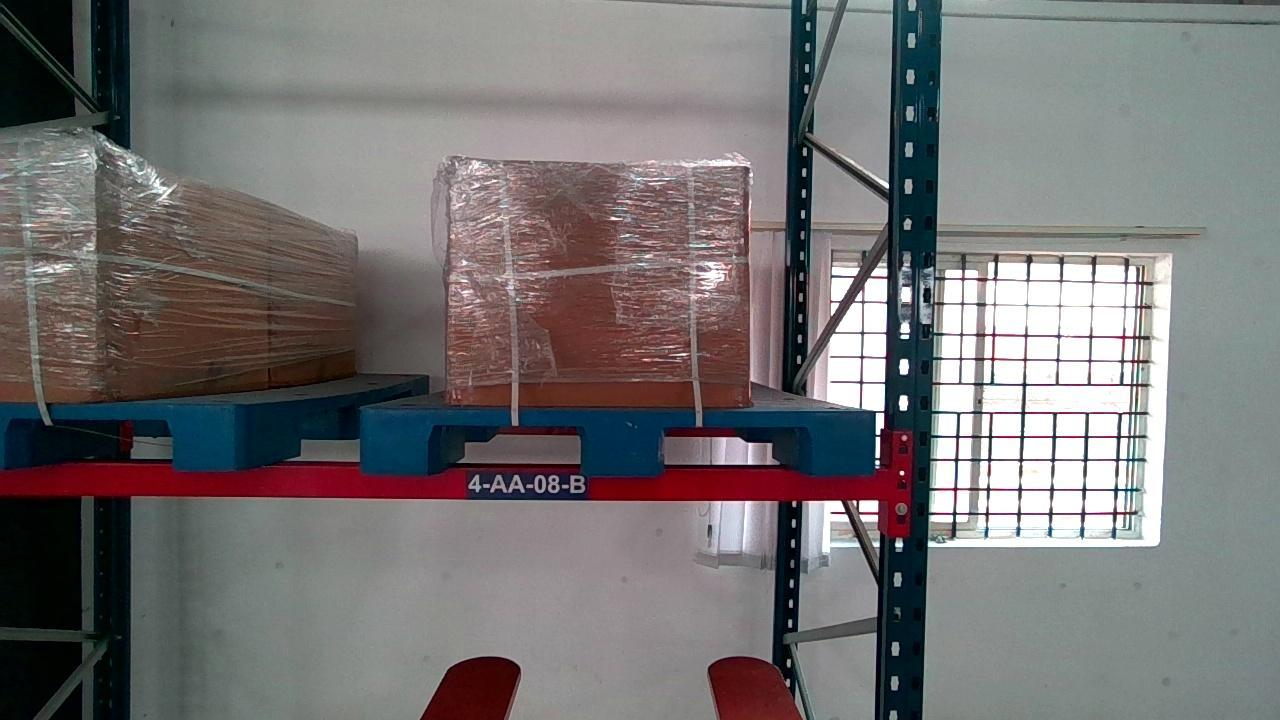h_rack: (0, 466, 893, 495)
small_pallet: (361, 408, 875, 472), (0, 404, 239, 469)
